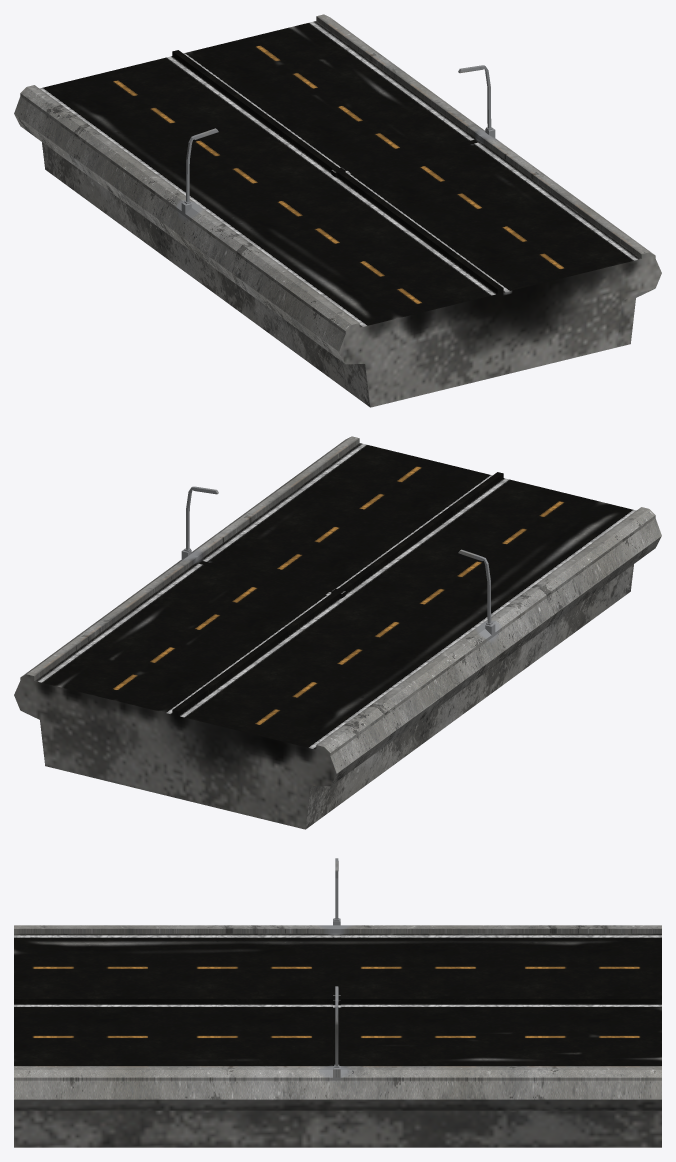
The model's file is road.glb.
The picture shows the model from 3 angles, top to bottom: view 1: azimuth 30°, elevation 25°; view 2: azimuth 150°, elevation 25°; view 3: azimuth 270°, elevation 25°; orthographic projection.
Visible parts, largest first — view 1: Road_copy_Cube.006; view 2: Road_copy_Cube.006; view 3: Road_copy_Cube.006.
Boxes of the visible parts, left/top/right/bottom form: Road_copy_Cube.006: left=14, top=14, right=661, bottom=407; Road_copy_Cube.006: left=14, top=436, right=661, bottom=829; Road_copy_Cube.006: left=14, top=858, right=661, bottom=1147.
Bounding box in the file's own units: 2.29 × 1.07 × 4.
Materials: 1 (1 with a texture image).
